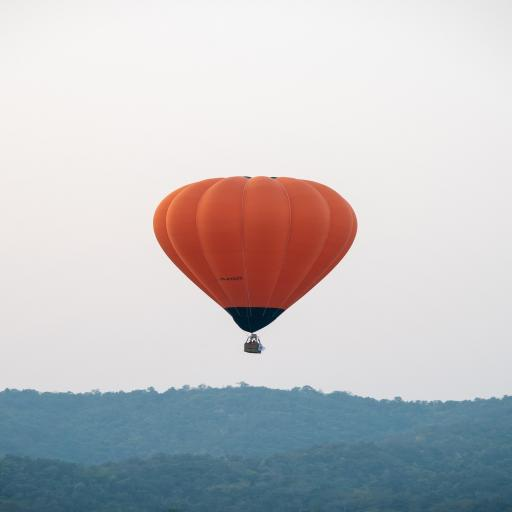hot air ballon: (152, 176, 359, 355)
